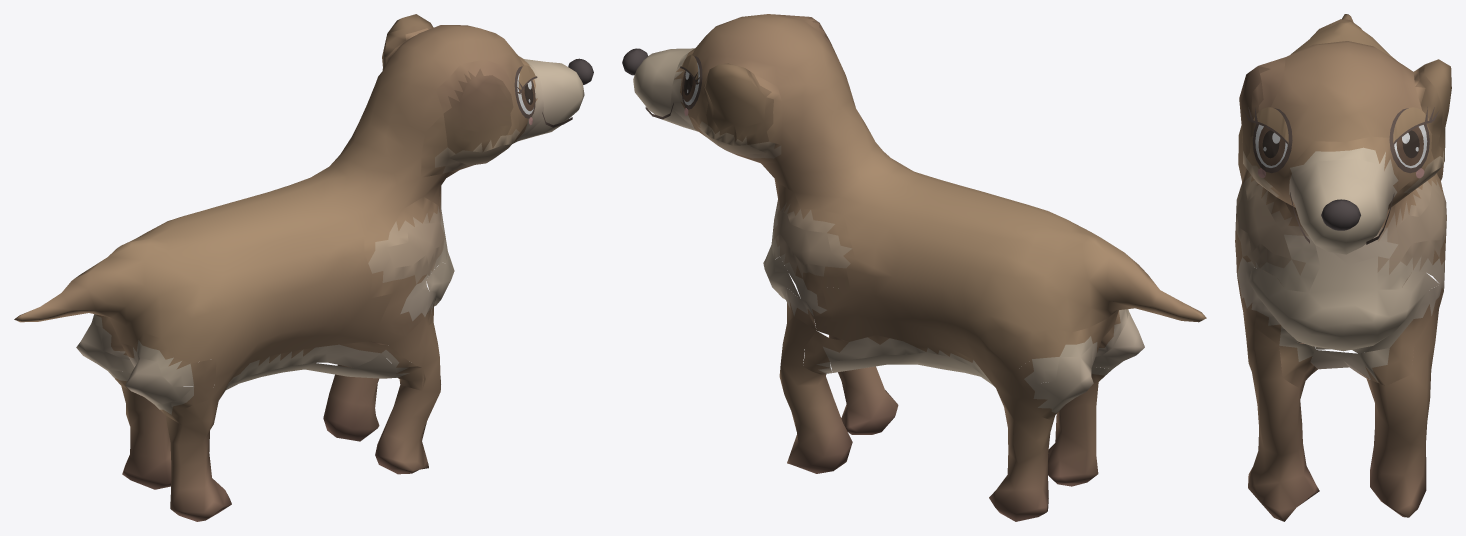
File: brown_dog.glb
The picture shows the model from 3 angles, left to right: view 1: azimuth 30°, elevation 25°; view 2: azimuth 150°, elevation 25°; view 3: azimuth 270°, elevation 25°; orthographic projection. The views are drawn at different scales.
Visible parts, largest first — view 1: brown_dog; view 2: brown_dog; view 3: brown_dog.
Part boxes in pixels (x1,y1,x2,y2): brown_dog: [14, 14, 593, 521]; brown_dog: [622, 14, 1206, 521]; brown_dog: [1235, 14, 1451, 521].
Size of the model in its own units: 0.6193 by 0.4191 by 0.1641.
